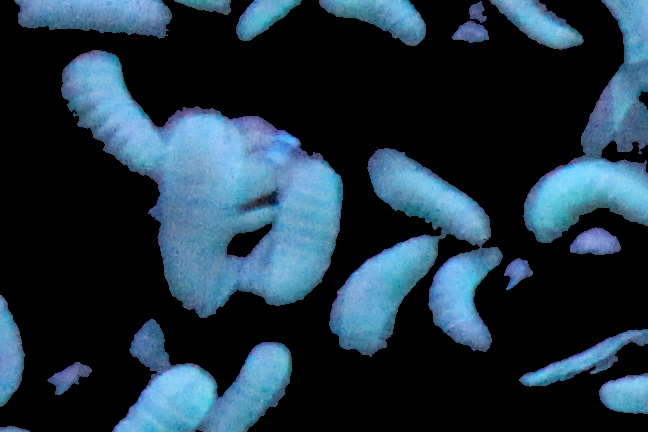larvae: (154, 113, 245, 308), (327, 233, 445, 363), (245, 158, 340, 314), (56, 40, 159, 172), (365, 147, 495, 240), (524, 153, 648, 243), (204, 337, 294, 432), (429, 244, 504, 353), (15, 1, 172, 49), (114, 363, 219, 432), (309, 1, 431, 51), (489, 1, 590, 49), (233, 1, 301, 42), (597, 372, 648, 416)
